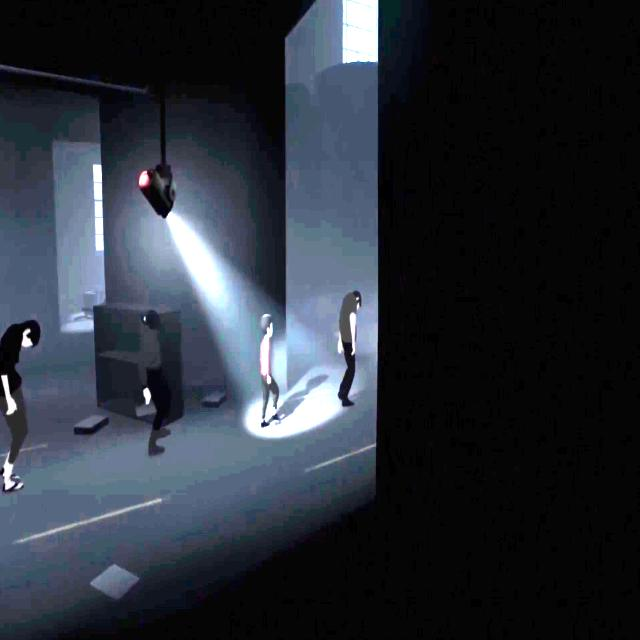boy: (259, 313, 282, 428)
zombie: (0, 320, 39, 487), (139, 310, 170, 456), (336, 290, 362, 407)
